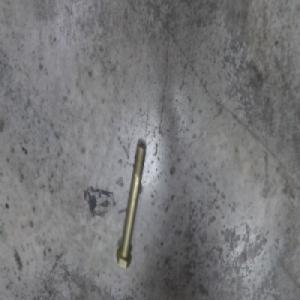Bolt: (116, 143, 150, 266)
